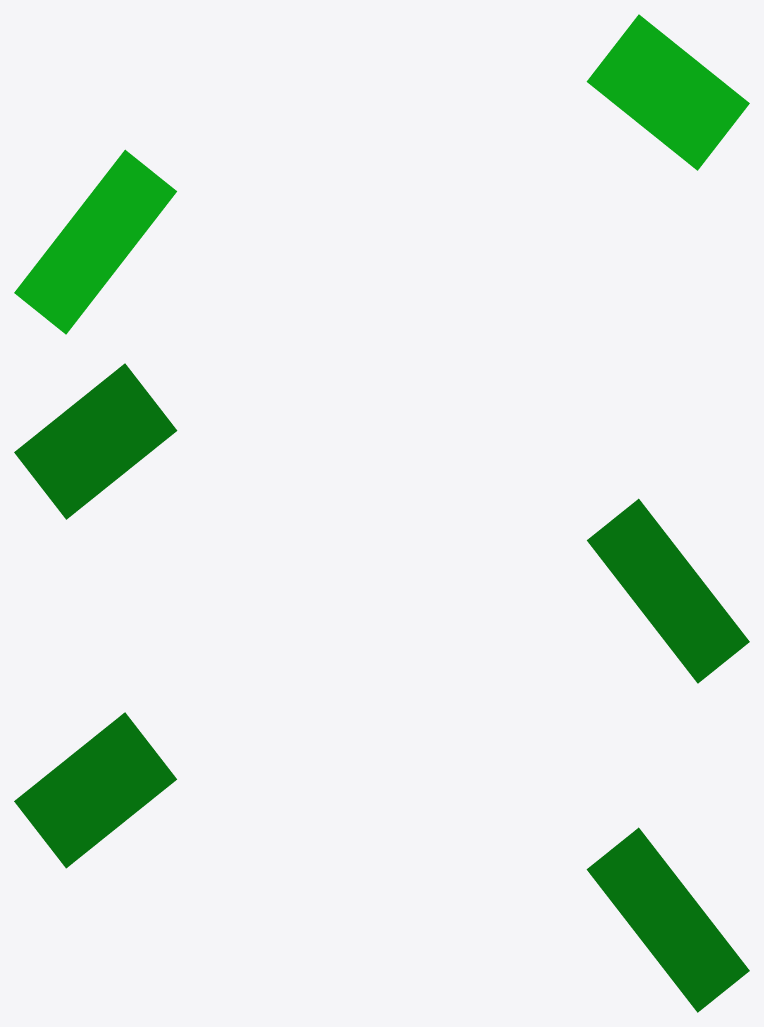
File: image4-2.glb
3 renders of one model, top to bottom at view 1: azimuth 30°, elevation 25°; view 2: azimuth 150°, elevation 25°; view 3: azimuth 330°, elevation 25°, orthographic.
Parts seen in each view (by area): view 1: InterstellarPoster.012; view 2: InterstellarPoster.012; view 3: InterstellarPoster.012.
Part boxes in pixels (x1,y1,x2,y2): InterstellarPoster.012: [14, 14, 749, 334]; InterstellarPoster.012: [14, 363, 749, 683]; InterstellarPoster.012: [14, 712, 749, 1012].
Bounding box in the file's own units: 0.3936 × 0.0924 × 0.
